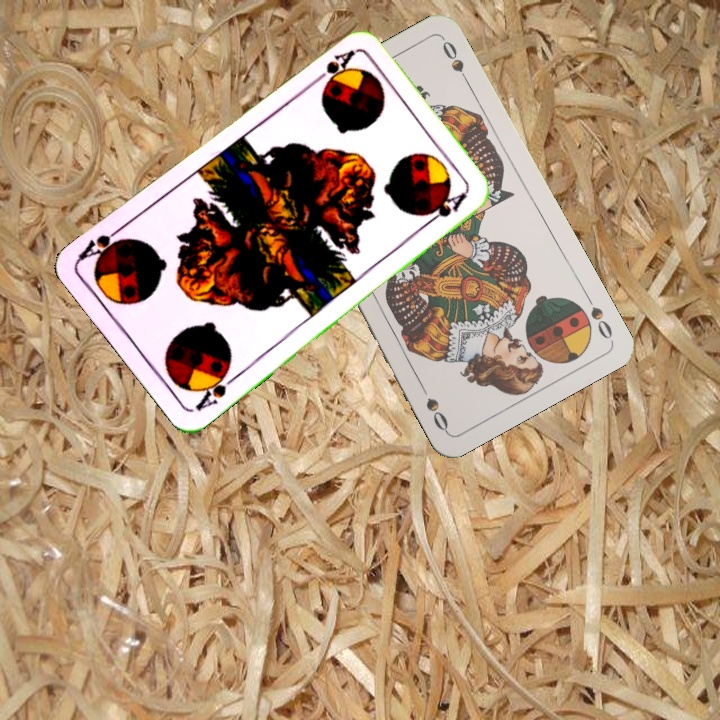SA: (191, 363, 241, 414), (306, 46, 357, 88)
SO: (580, 289, 615, 342)
